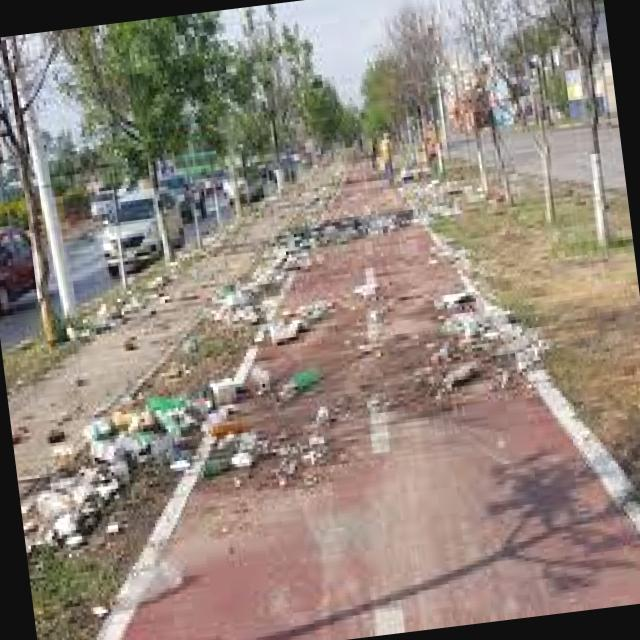garbage: (9, 353, 334, 546), (408, 270, 555, 403), (190, 250, 340, 358), (260, 185, 469, 244), (48, 268, 182, 358)
